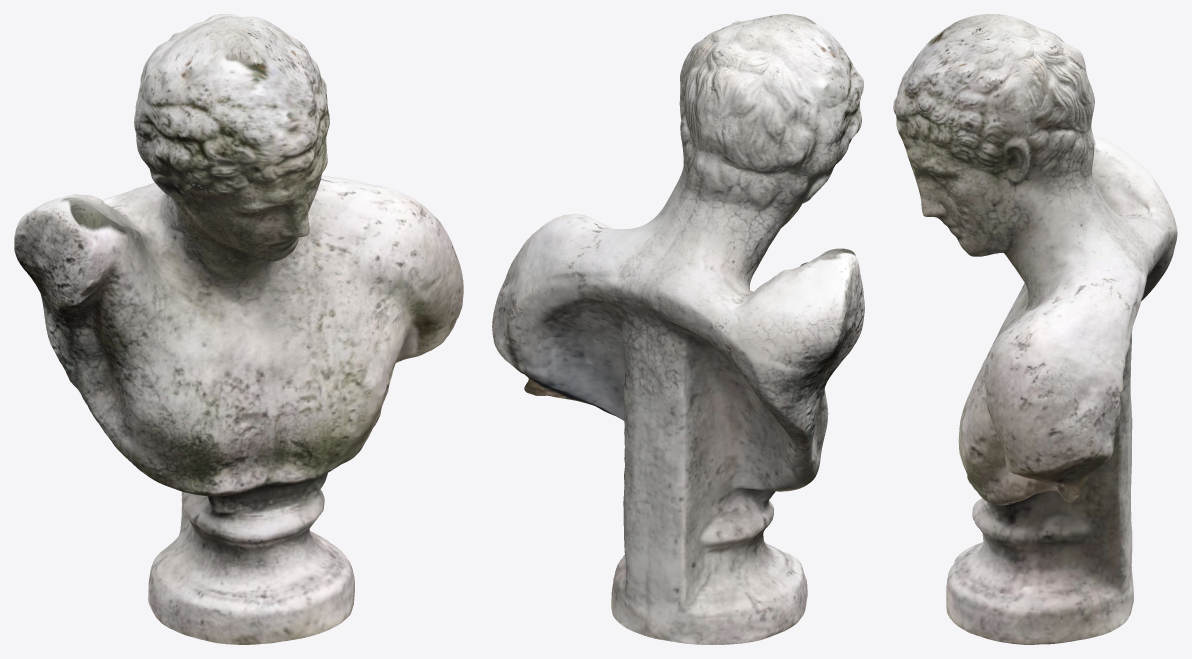
3 renders of one model, left to right at view 1: azimuth 30°, elevation 25°; view 2: azimuth 150°, elevation 25°; view 3: azimuth 270°, elevation 25°, orthographic. The views are drawn at different scales.
Parts seen in each view (by area): view 1: Object_3; view 2: Object_3; view 3: Object_3.
Part boxes in pixels (x1=…): Object_3: x1=14, y1=14, x2=463, y2=644; Object_3: x1=492, y1=14, x2=864, y2=644; Object_3: x1=893, y1=14, x2=1177, y2=644.
Bounding box in the file's own units: 153 × 221 × 101.
2 materials, 2 textured.
